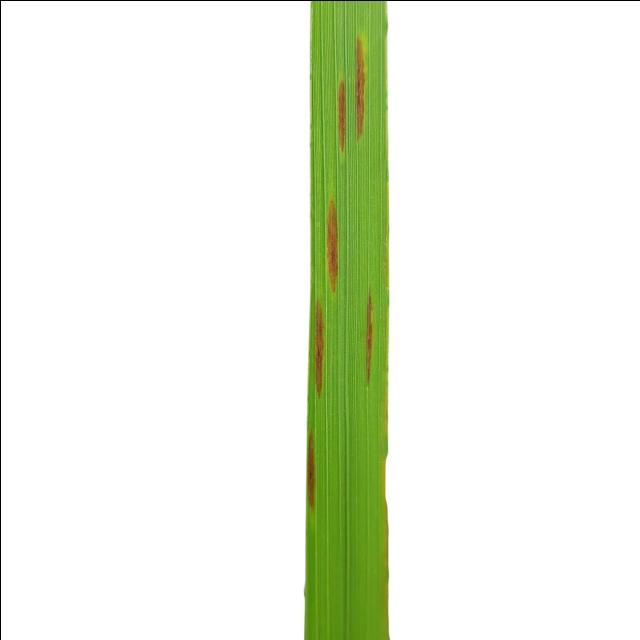Narrow brown: (237, 0, 488, 640)
